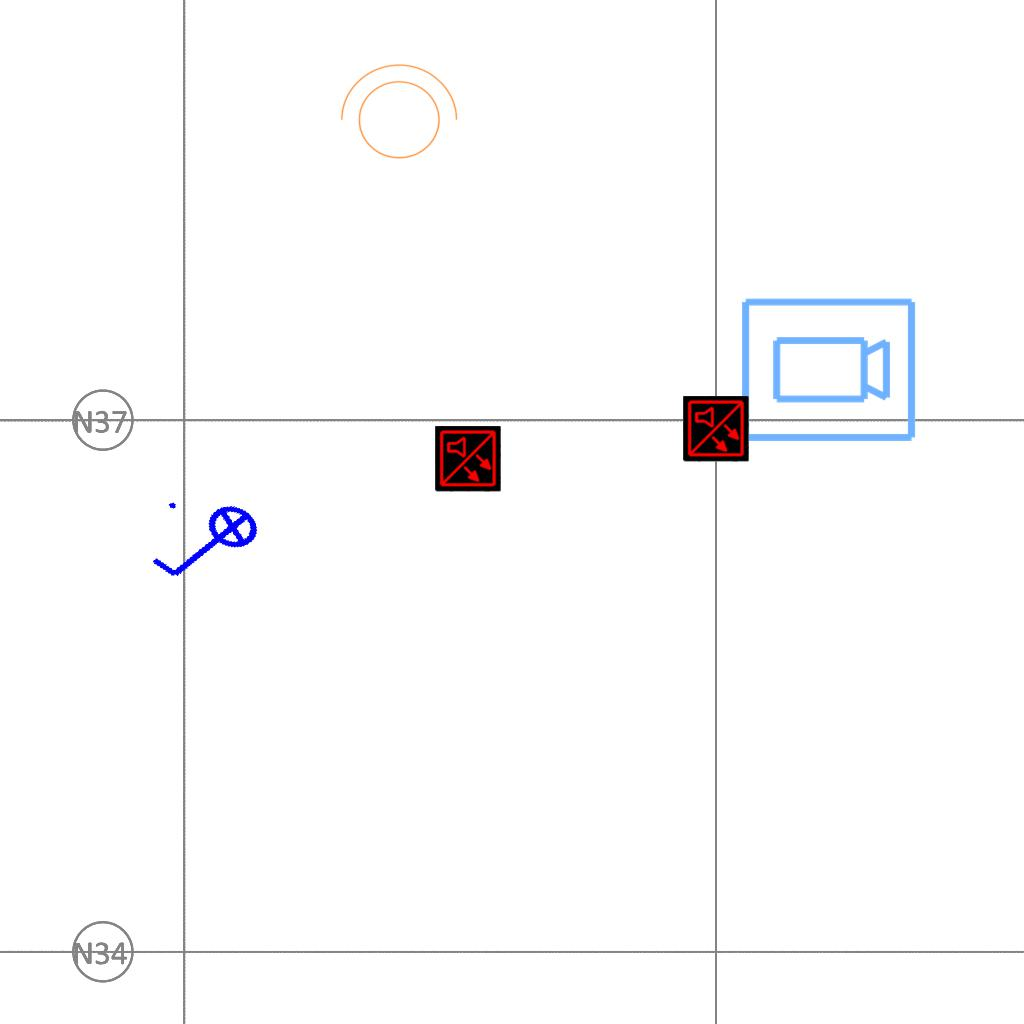Ausschalter_beleuchtet: (139, 482, 277, 610)
KFO_Kamera_mit_Festobjektiv: (737, 294, 919, 448)
OKW_Multisensormelder_(Kombination_optischer_Rauch-Kahlenmonoxid_Waerme-Melder): (435, 426, 501, 492), (683, 396, 749, 462)
Scheinwerfer_fuer_Alarmbeleuchtung: (330, 59, 462, 171)
